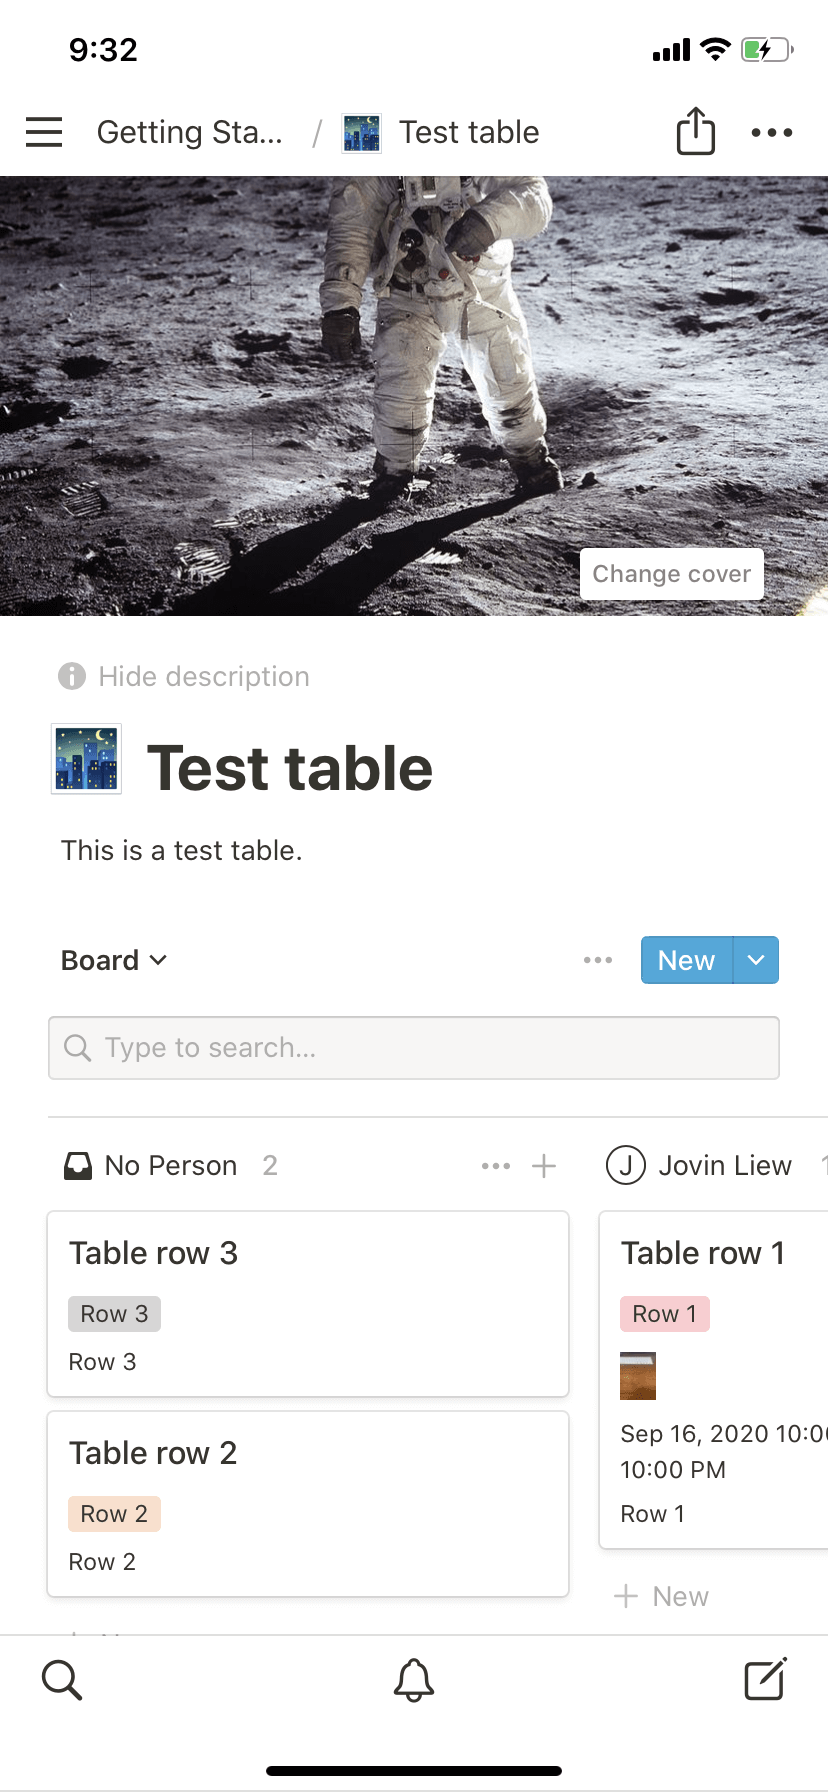Buttons: (38, 910, 196, 998), (570, 538, 770, 606), (632, 926, 785, 999), (606, 1560, 731, 1626), (1, 83, 86, 176), (638, 85, 722, 175), (729, 88, 815, 169), (563, 917, 632, 1000), (465, 1134, 523, 1187), (518, 1137, 566, 1192)
